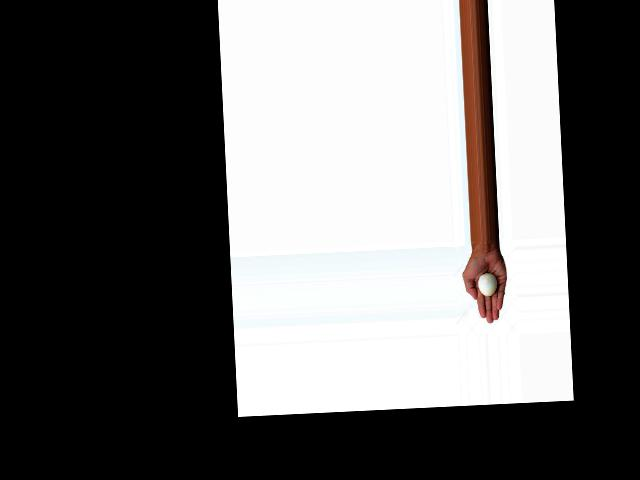egg: (478, 273, 497, 297)
